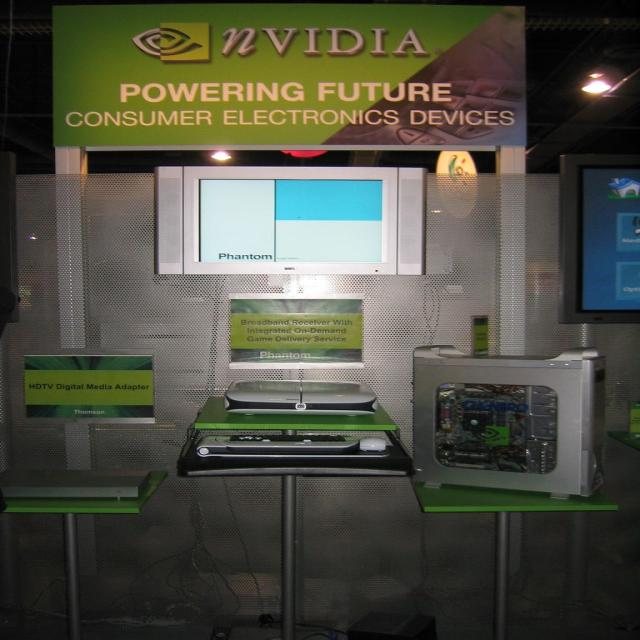nvidia: (131, 23, 211, 63)
